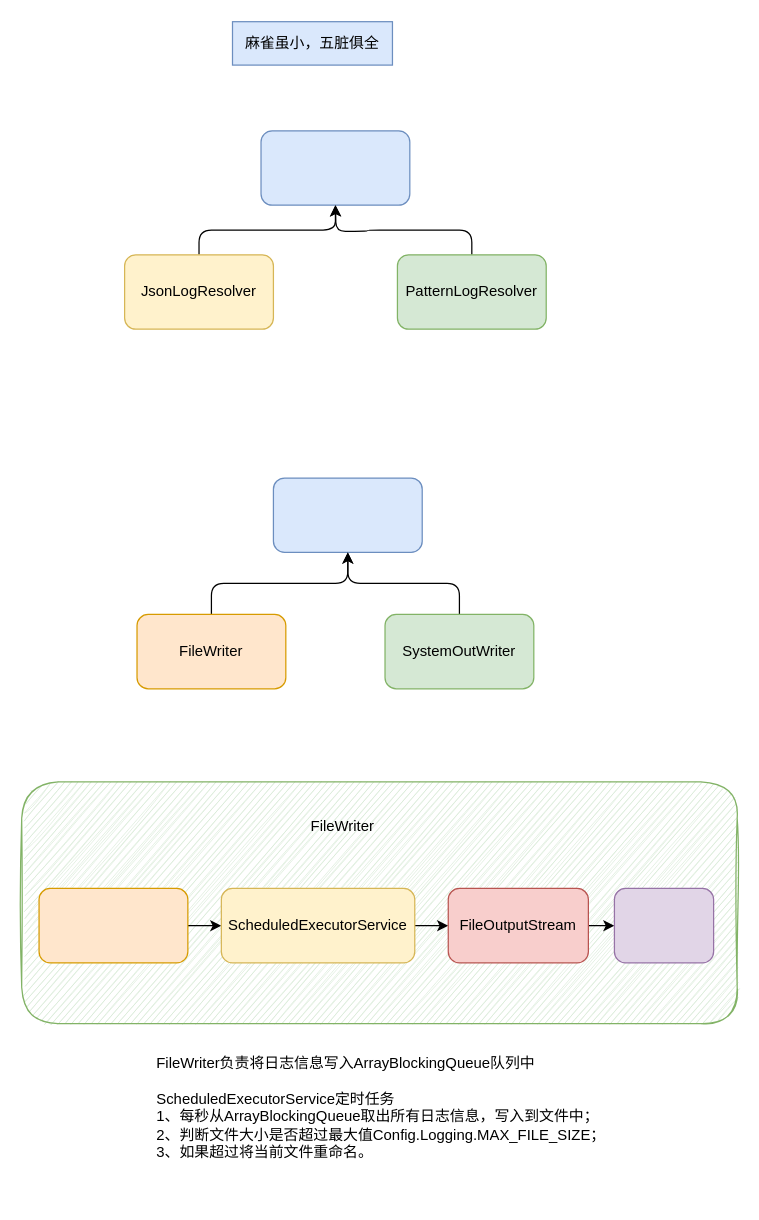
Some shapes in this 759 by 1220 pixel diagram are drawn without their labels. Each missing label, with the centre of its shape:
"ArrayBlockingQueue" belongs at [113,925].
"File" belongs at [663,925].
"IWriter" belongs at [347,514].
"LogResolver" belongs at [335,167].
